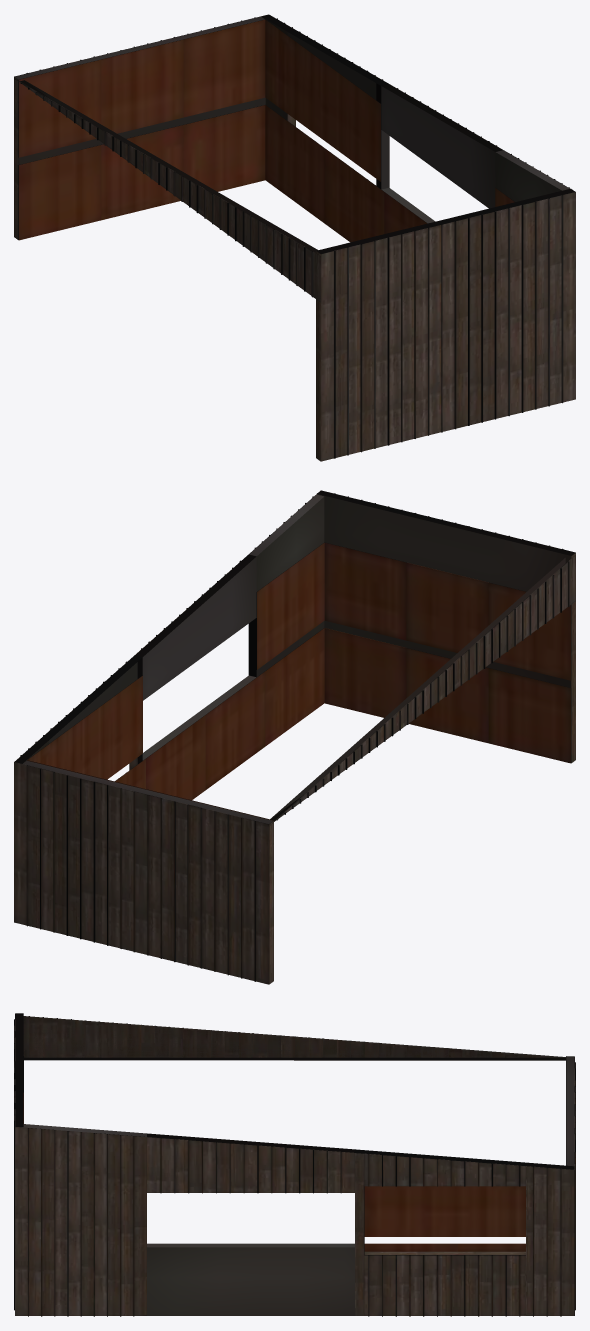
File: arrival_shell.glb
3 renders of one model, top to bottom at view 1: azimuth 30°, elevation 25°; view 2: azimuth 150°, elevation 25°; view 3: azimuth 270°, elevation 25°, orthographic. The views are drawn at different scales.
Visible parts, largest first — view 1: arrival_shell; view 2: arrival_shell; view 3: arrival_shell.
Part boxes in pixels (box(x1,y1,x2,y2)): arrival_shell: box(14, 14, 575, 461); arrival_shell: box(14, 490, 575, 984); arrival_shell: box(14, 1013, 575, 1316).
Size of the model in its own units: 11.71 by 9.03 by 24.31.
Materials: 1 (1 with a texture image).
